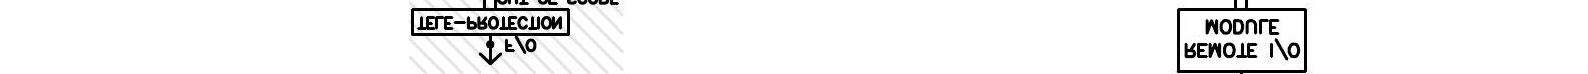remote_io_module: (1177, 8, 1307, 73)
tele_protection: (410, 7, 571, 36)
